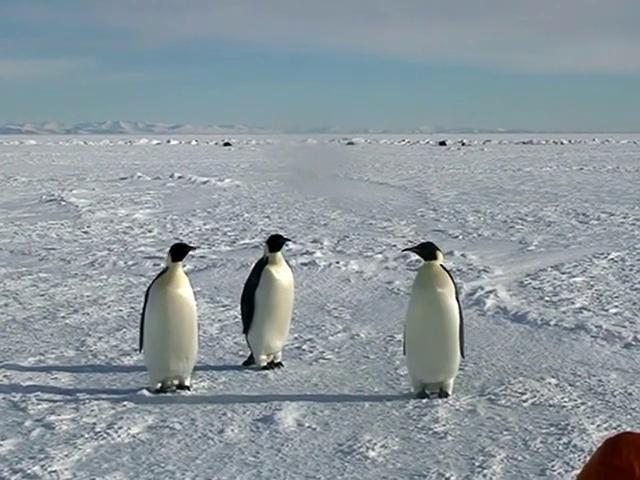animal: (405, 242, 465, 399)
